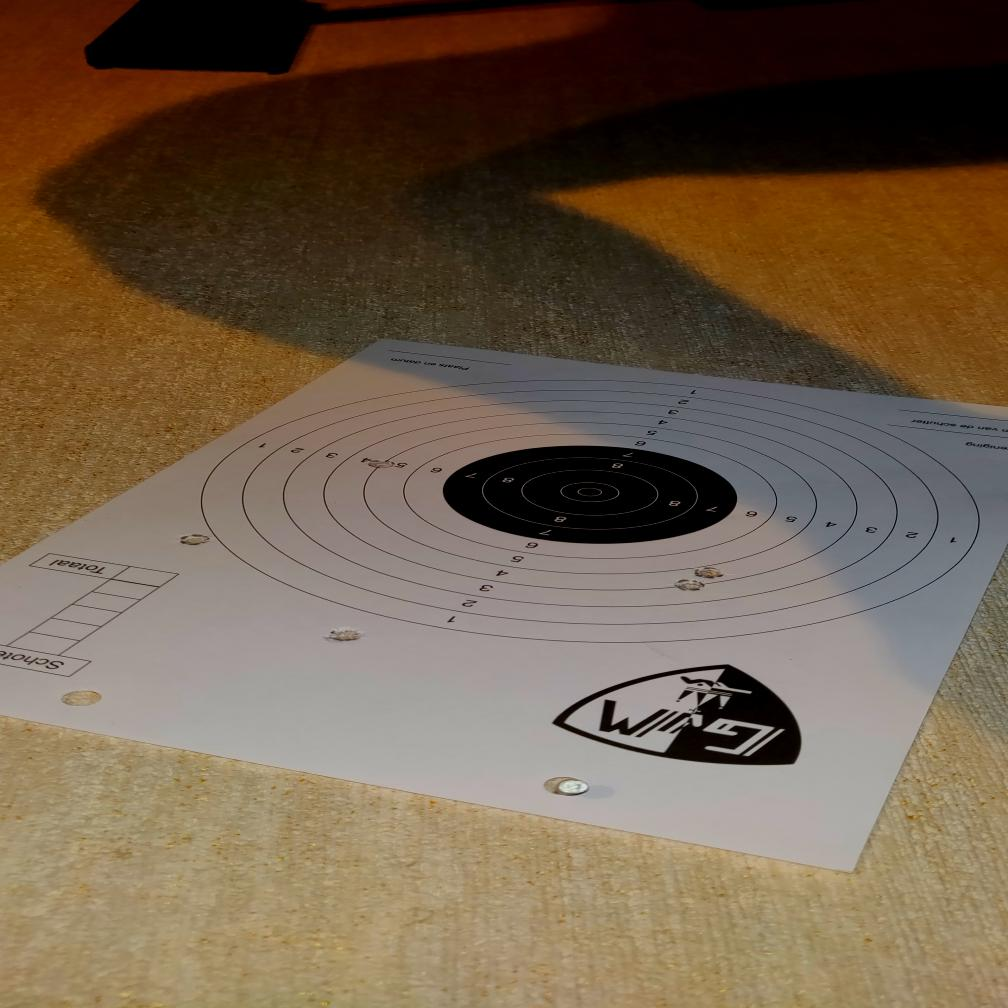0: (326, 627, 364, 642), (179, 533, 208, 546)
4: (694, 566, 721, 579), (672, 580, 701, 592)
5: (362, 458, 393, 469)
Target: (195, 373, 986, 645)
black_contour: (440, 445, 740, 543)
